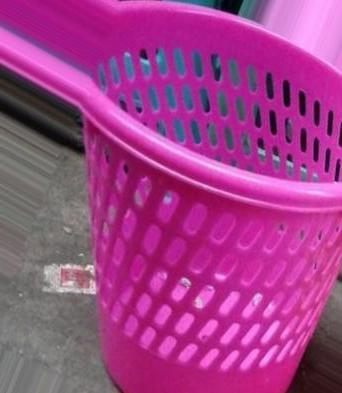Bote de Basura: (81, 10, 341, 392)
